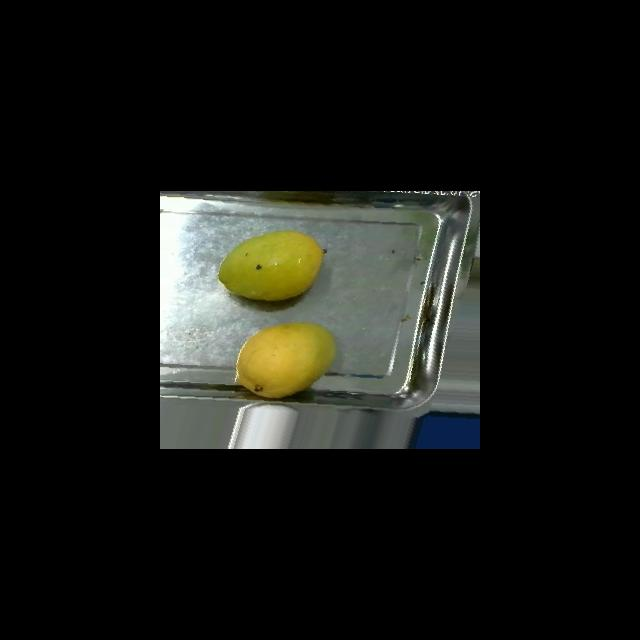mango: (234, 320, 336, 398), (217, 229, 326, 301)
